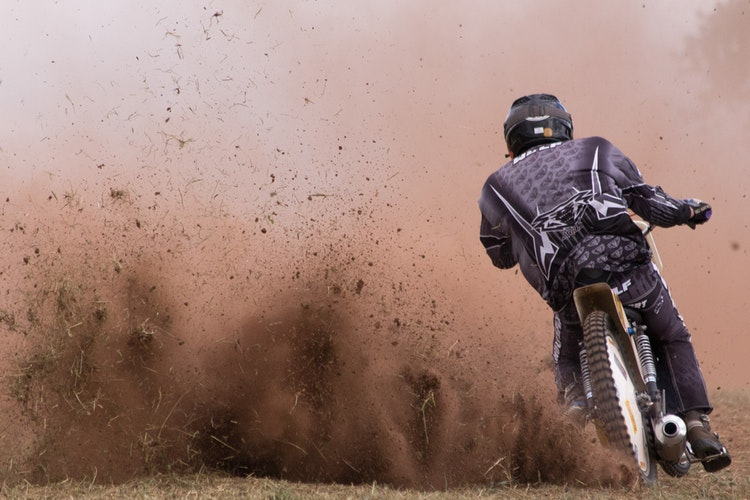helmet: (491, 82, 584, 157)
